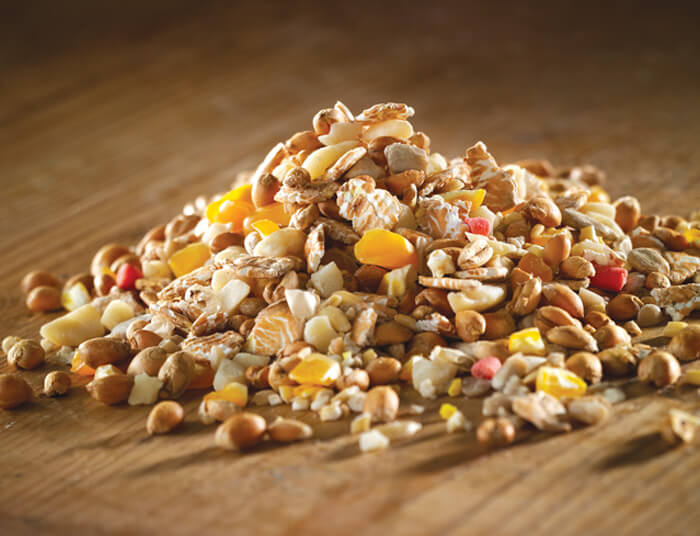seed: (1, 91, 700, 472)
